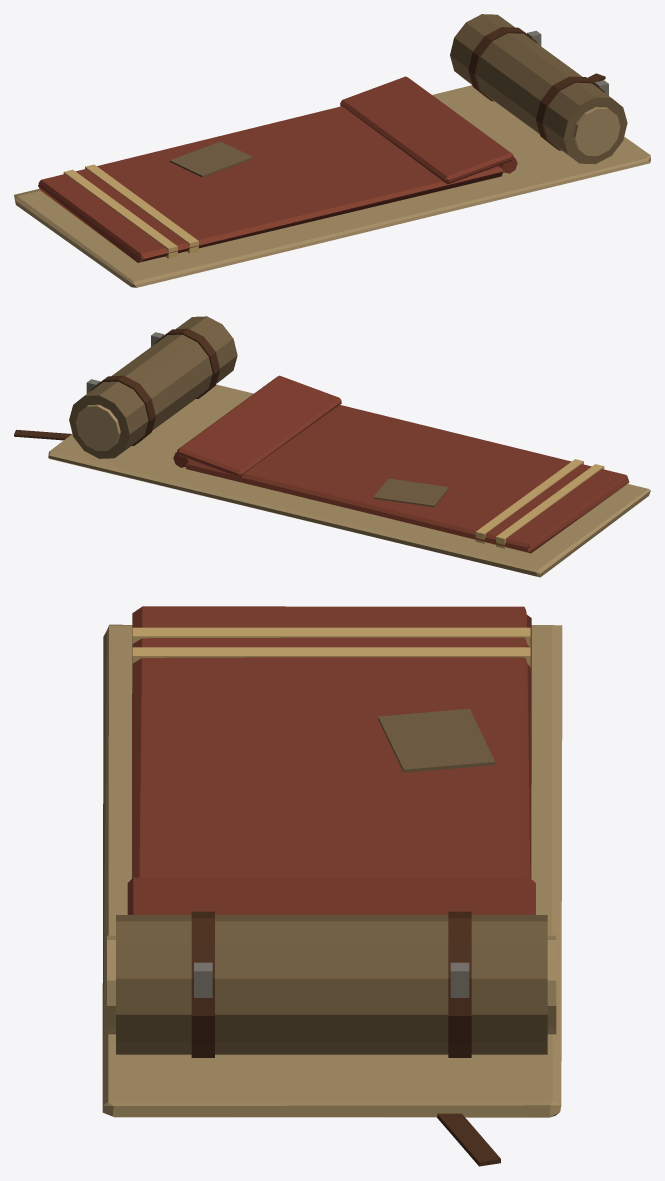
Rendered from bedroll.glb.
3 renders of one model, top to bottom at view 1: azimuth 30°, elevation 25°; view 2: azimuth 150°, elevation 25°; view 3: azimuth 270°, elevation 25°, orthographic. The views are drawn at different scales.
Parts seen in each view (by area): view 1: bedroll; view 2: bedroll; view 3: bedroll.
Part boxes in pixels (left/top/right/bottom): bedroll: left=14, top=14, right=650, bottom=287; bedroll: left=14, top=316, right=650, bottom=577; bedroll: left=102, top=606, right=562, bottom=1166.
Size of the model in its own units: 2.15 by 0.2874 by 0.788.
